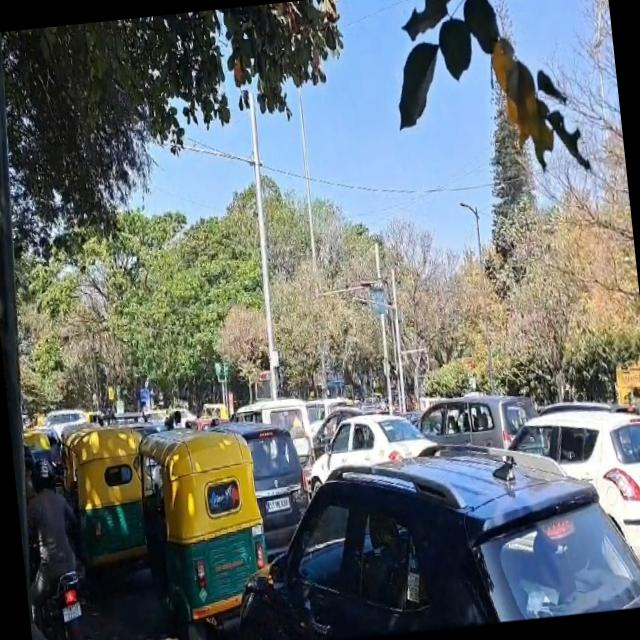cars: (222, 434, 640, 640), (507, 400, 640, 570), (306, 412, 445, 510), (421, 387, 544, 480), (236, 423, 314, 542)
